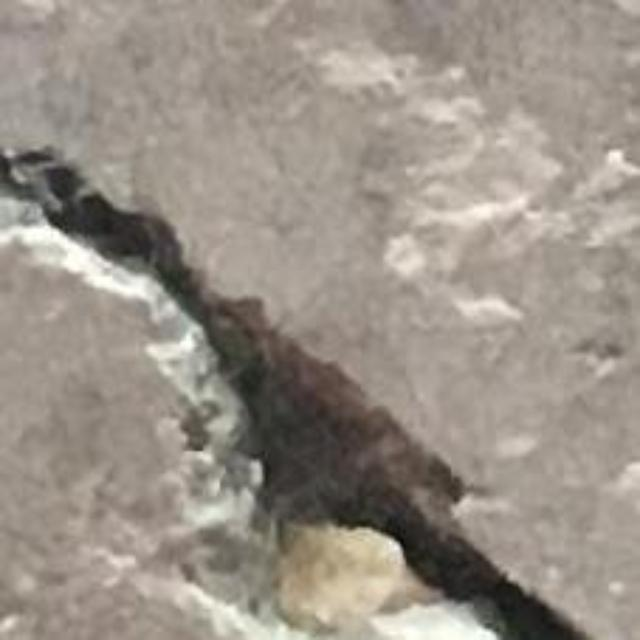crack: (0, 147, 586, 639)
